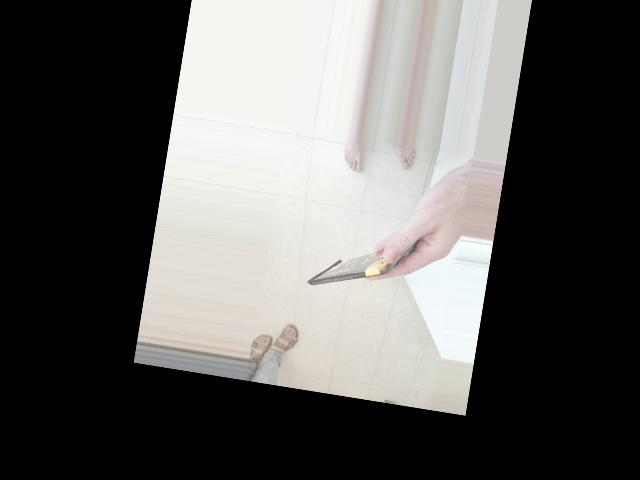chocolate: (279, 233, 361, 349)
